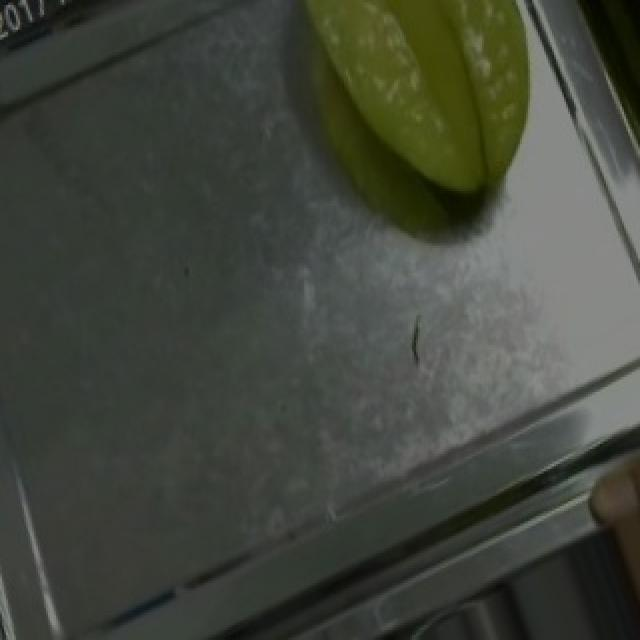fruit: (248, 0, 602, 256)
